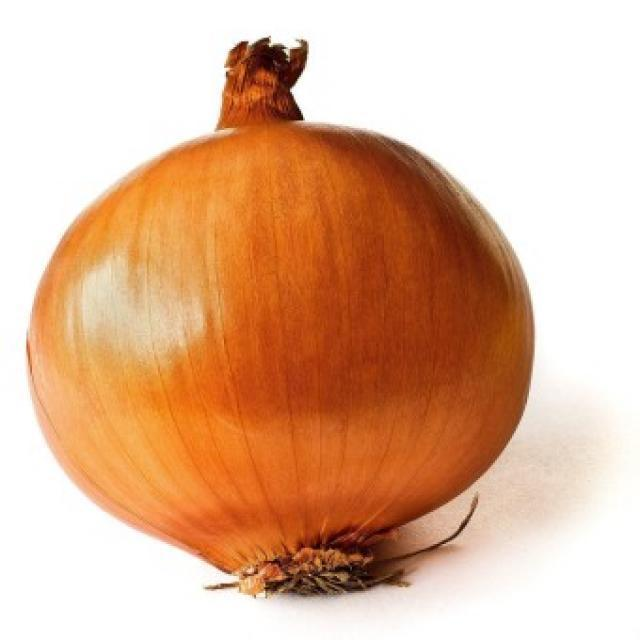onion: (25, 38, 537, 600)
